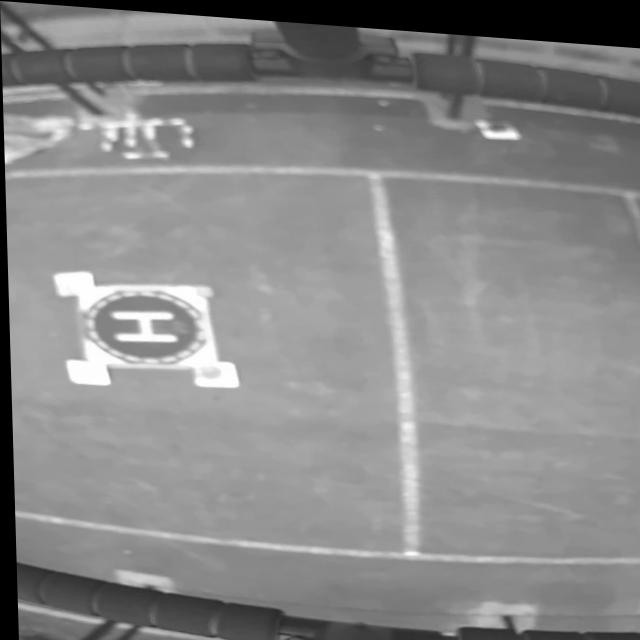Helipad: (110, 308, 176, 339)
